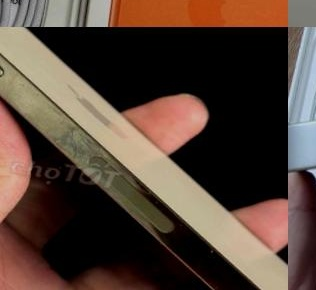scratch: (33, 113, 140, 190), (206, 241, 218, 261)
